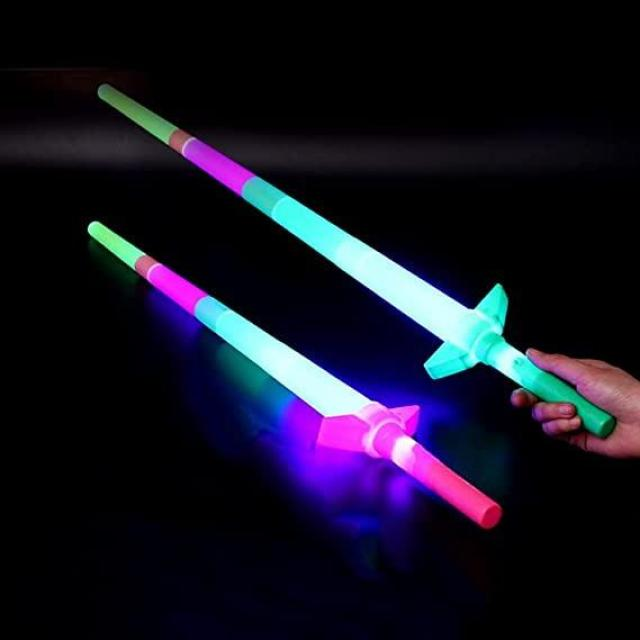weapon: (92, 80, 626, 445), (81, 216, 507, 534)
